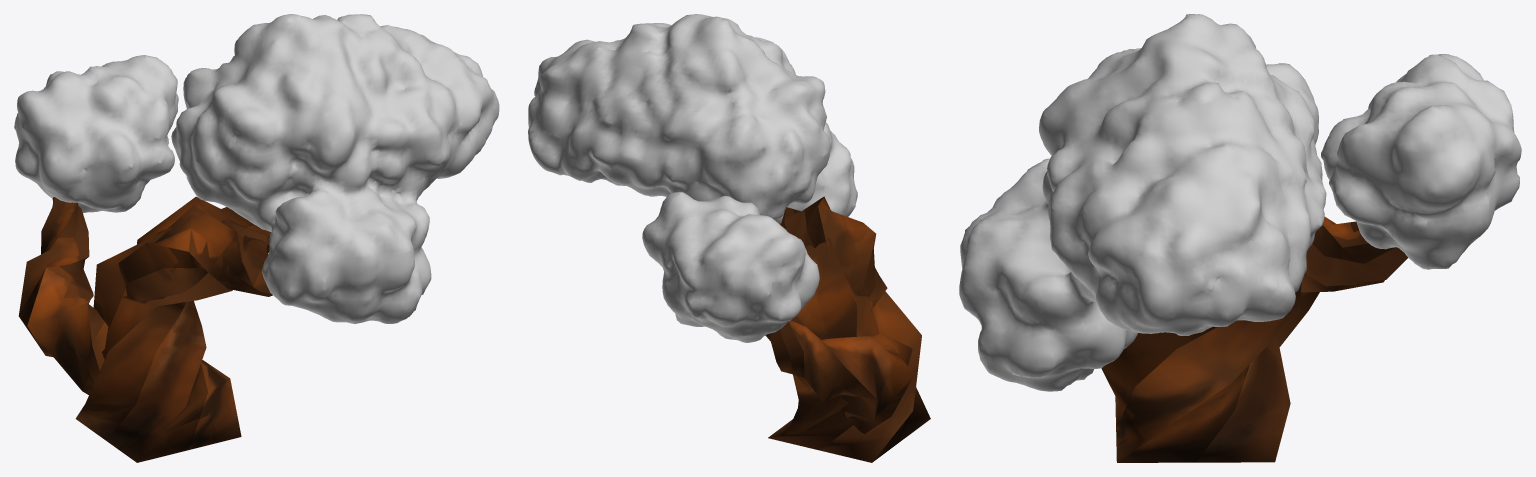
Rendered from Bush.003.fbx.
3 views of the same model, side by side, from view 1: azimuth 30°, elevation 25°; view 2: azimuth 150°, elevation 25°; view 3: azimuth 270°, elevation 25° (orthographic). The views are drawn at different scales.
Parts seen in each view (by area): view 1: Trunk; view 2: Trunk; view 3: Trunk.
Boxes of the visible parts, x1=… form: Trunk: x1=14, y1=14, x2=499, y2=462; Trunk: x1=528, y1=14, x2=930, y2=462; Trunk: x1=959, y1=14, x2=1521, y2=462.
Size of the model in its own units: 8.07 by 6.93 by 7.11.
